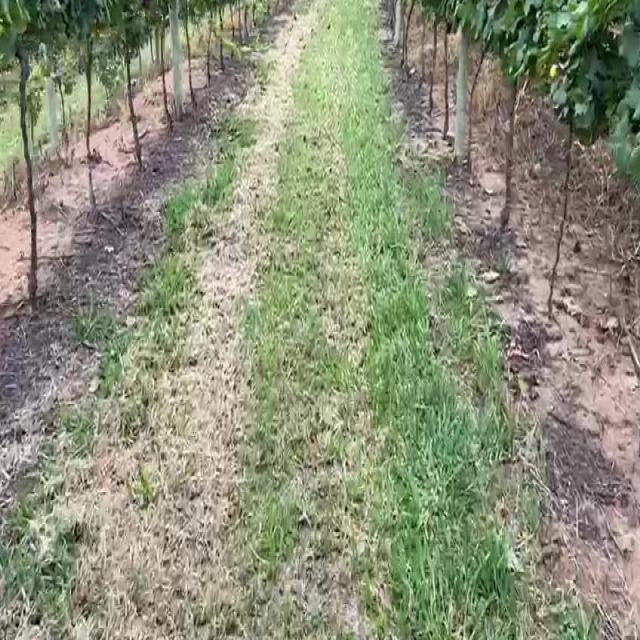tree trunk: (17, 49, 37, 310), (500, 76, 516, 227), (124, 41, 142, 172), (454, 28, 468, 161), (169, 0, 183, 119)
